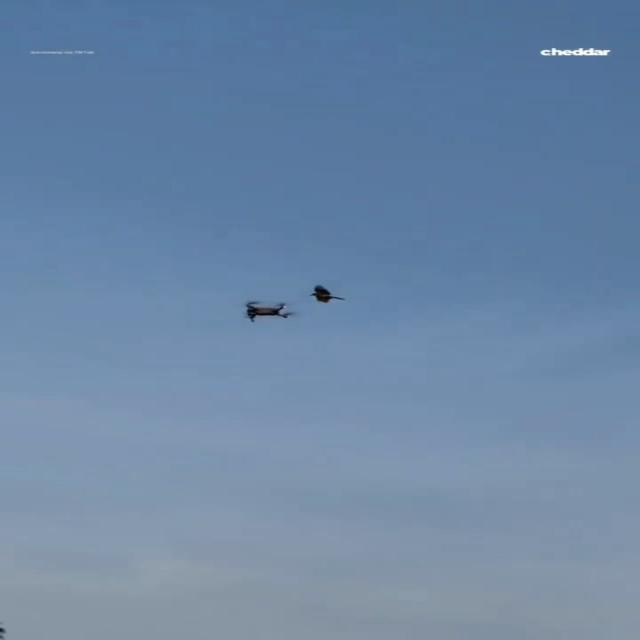bird: (308, 284, 345, 303)
drone: (245, 300, 292, 322)
